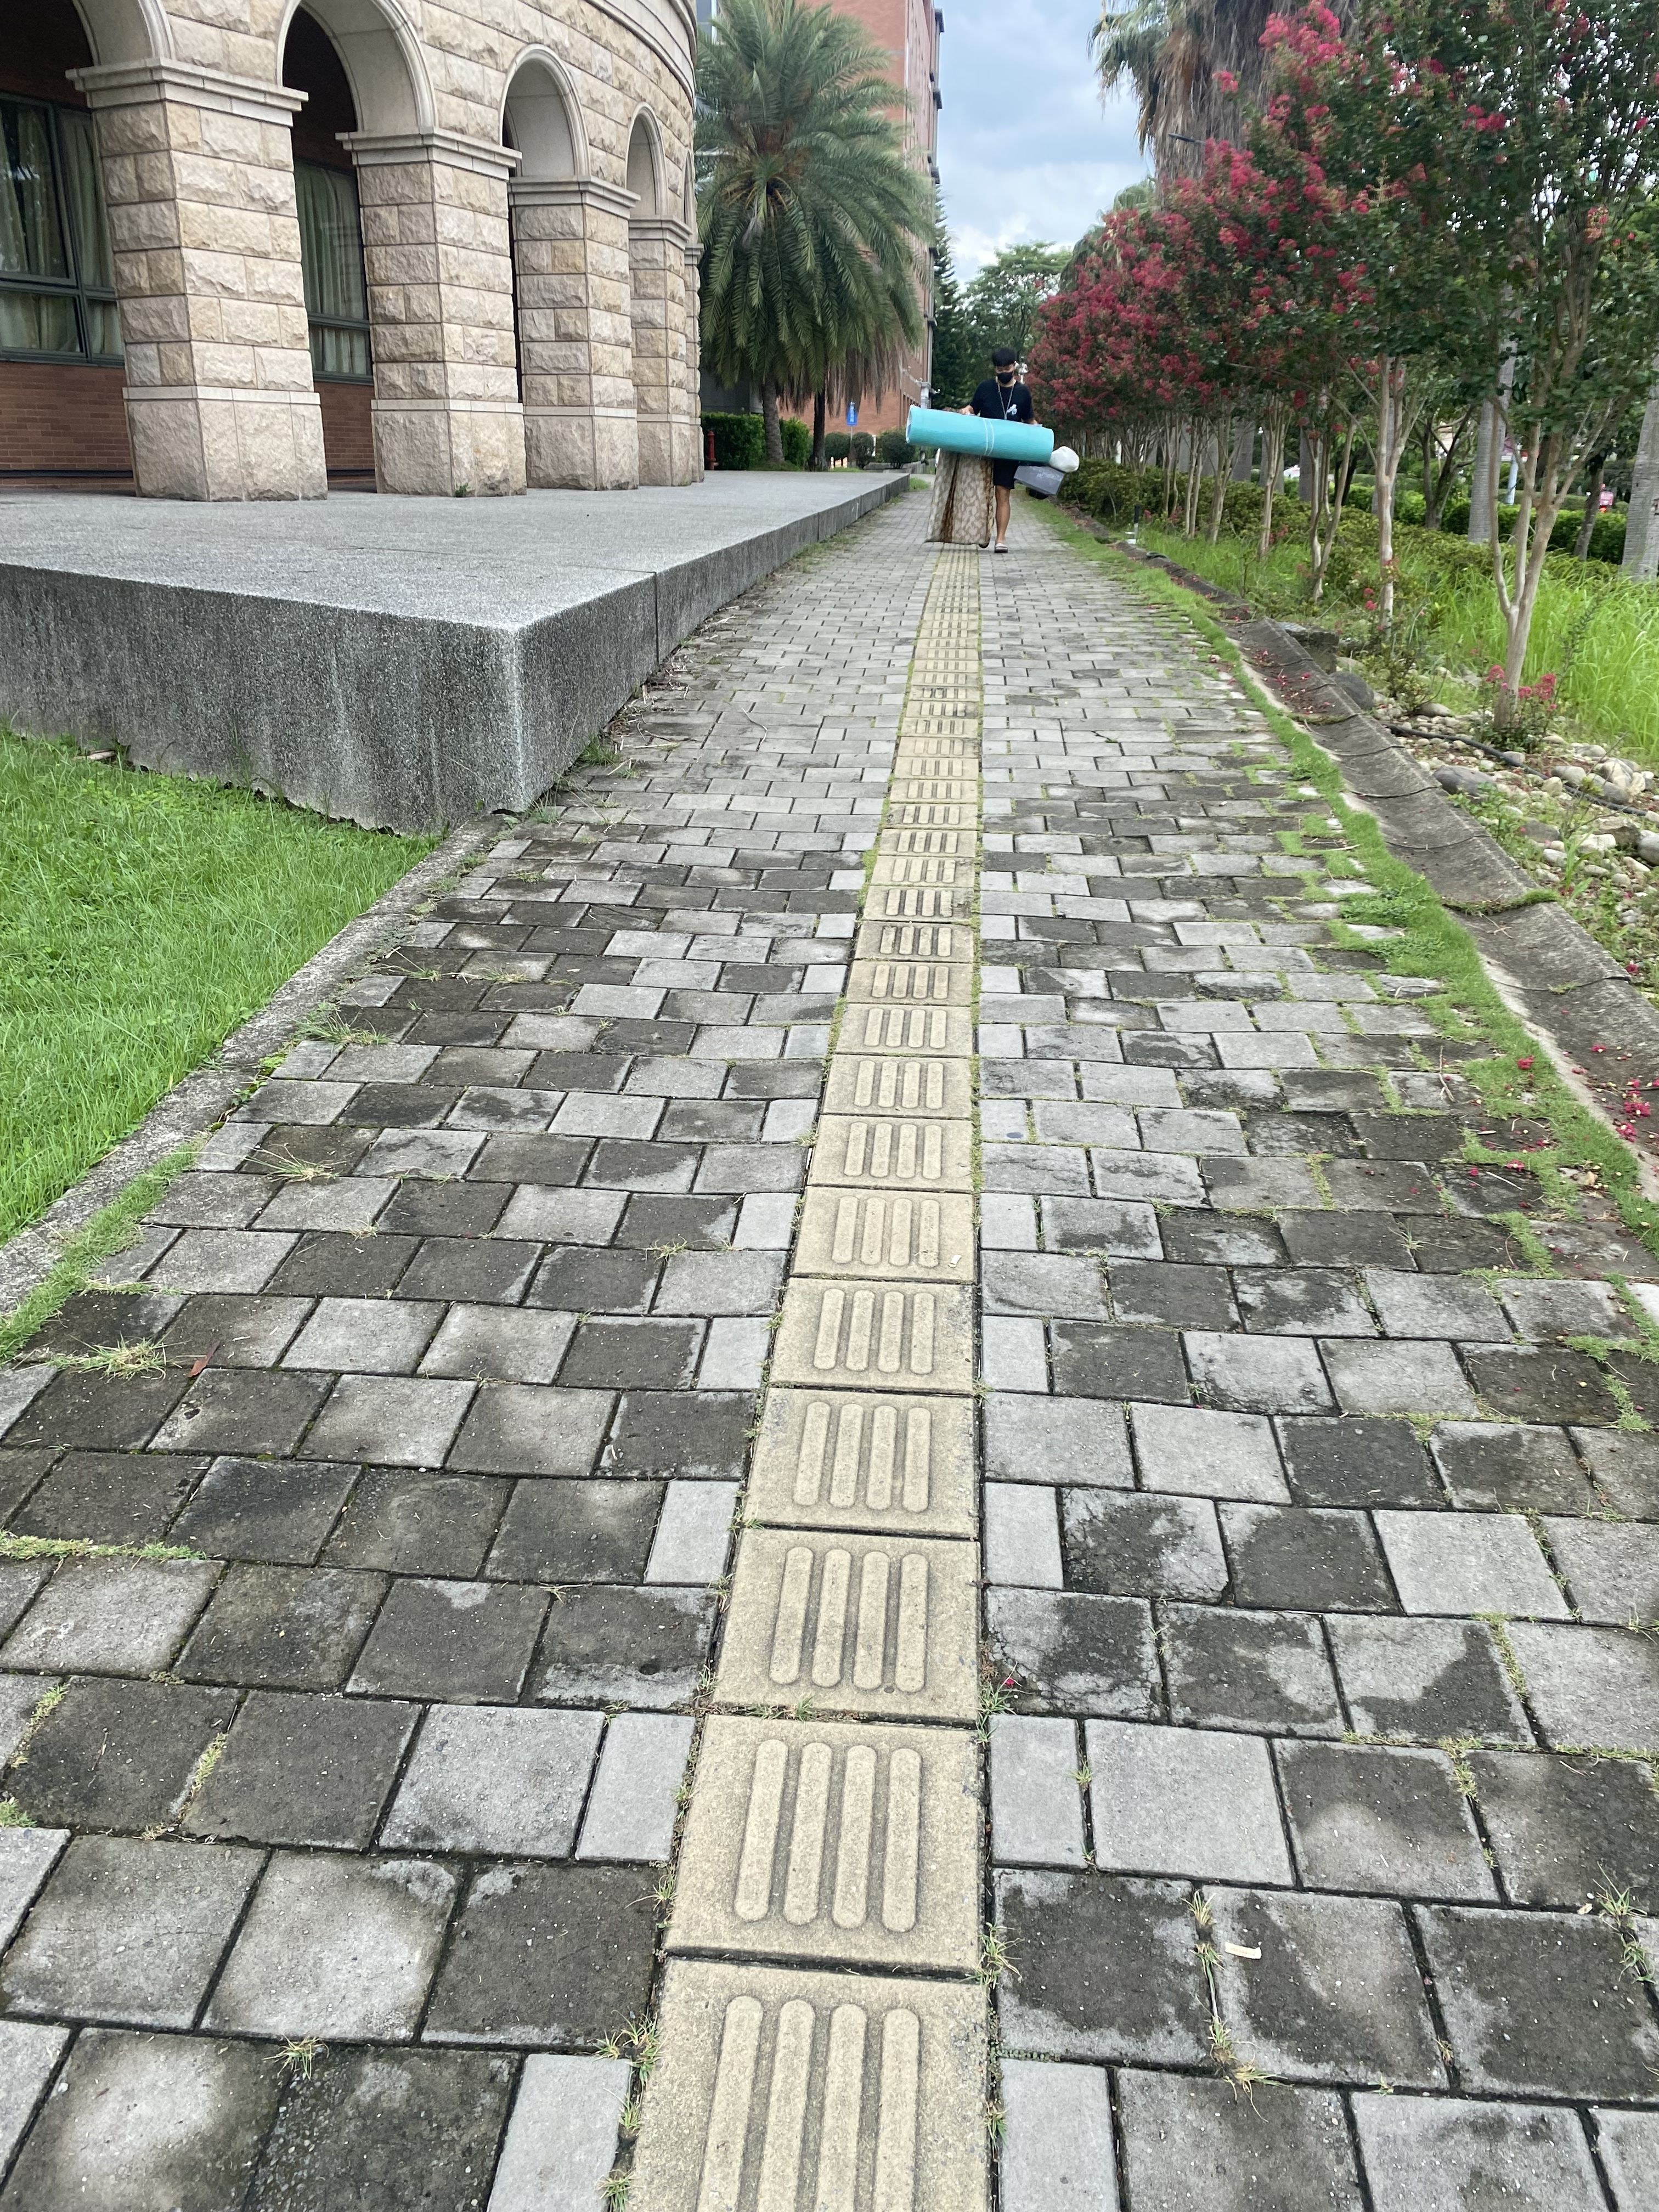sidewalk: (7, 479, 1659, 2212)
